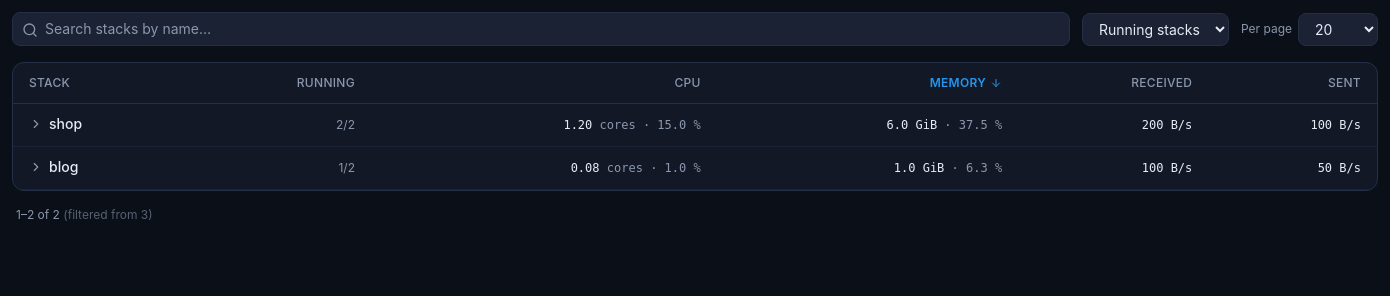
StacksTab › expands a stack into its containers on click
Check: the text "shop-db" is not shown
Click the row that starts with "shop" at coordinates (695, 125), box left=13, top=104, right=1377, bottom=146
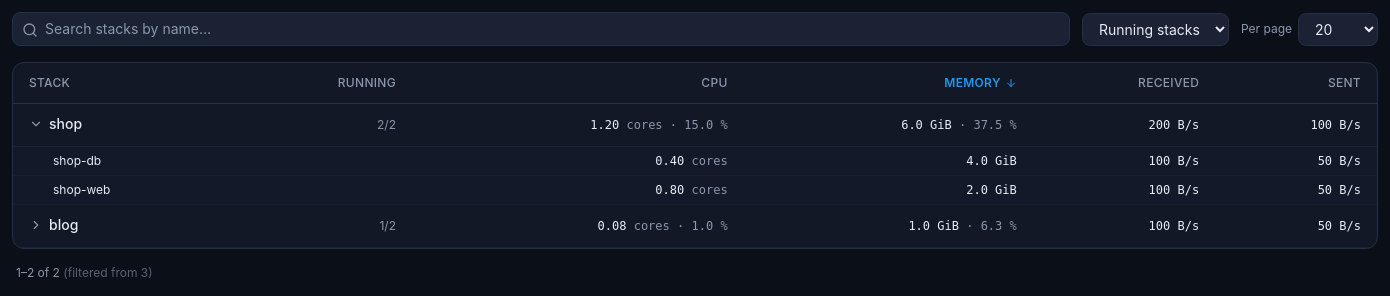
Check: the text "shop-db" is shown, box left=53, top=153, right=101, bottom=168
Check: the text "4.0 GiB" is shown, box left=744, top=146, right=1033, bottom=176
